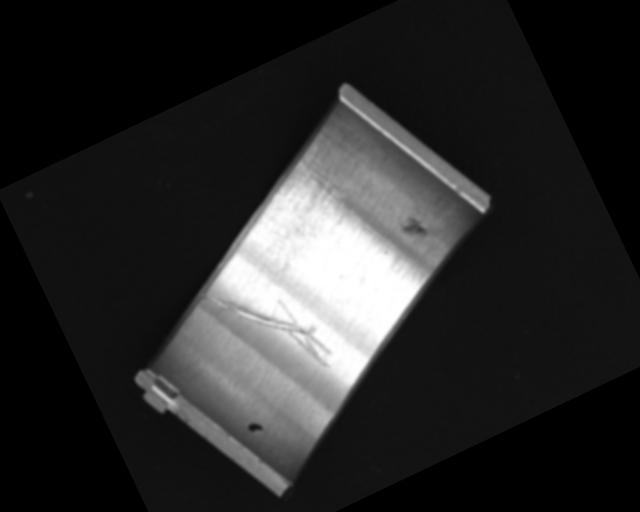blot: (244, 418, 265, 438)
bruise: (399, 212, 429, 243)
nick: (201, 254, 340, 405)
scratch: (240, 132, 366, 254)
